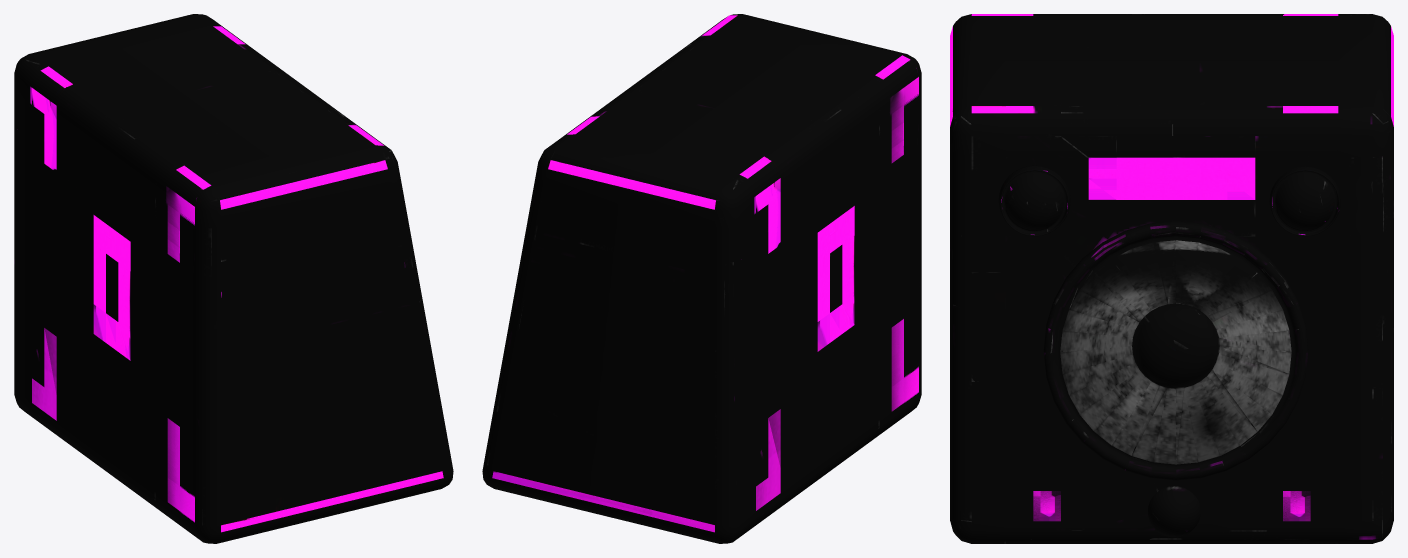
The model's file is SpeakerCubePurple.glb.
3 views of the same model, side by side, from view 1: azimuth 30°, elevation 25°; view 2: azimuth 150°, elevation 25°; view 3: azimuth 270°, elevation 25° (orthographic). The views are drawn at different scales.
Visible parts, largest first — view 1: 2speakLP-purple; view 2: 2speakLP-purple; view 3: 2speakLP-purple.
Boxes of the visible parts, x1,y1,x2,y2 form: 2speakLP-purple: [14, 14, 453, 543]; 2speakLP-purple: [482, 14, 921, 543]; 2speakLP-purple: [950, 14, 1393, 543].
Bounding box in the file's own units: 1.57 × 2 × 2.
Materials: 1 (1 with a texture image).
